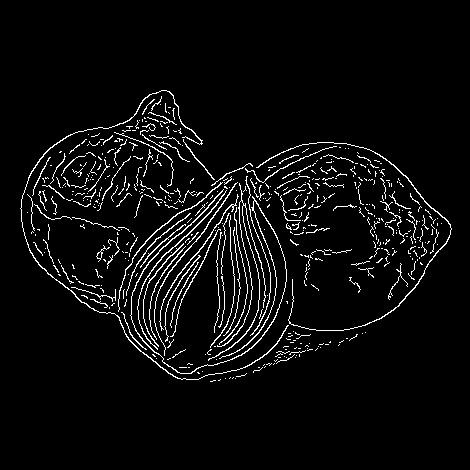red_onion: (14, 72, 212, 320), (112, 155, 298, 386), (254, 138, 456, 333)
